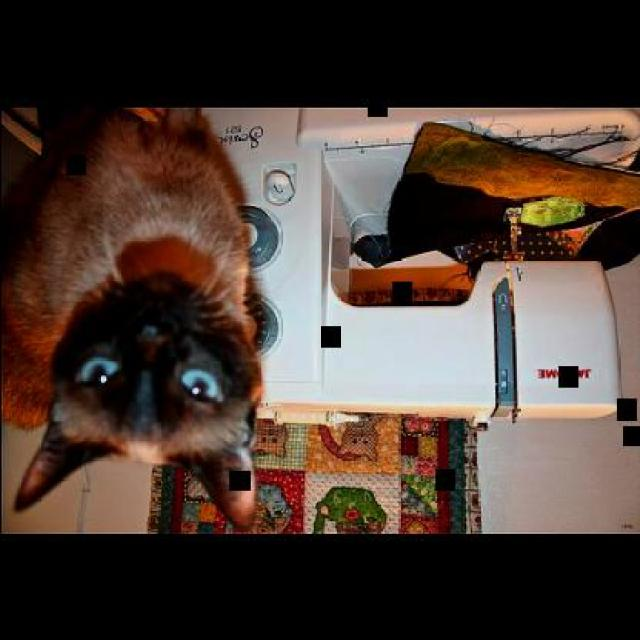unauthorized: (0, 105, 266, 528)
